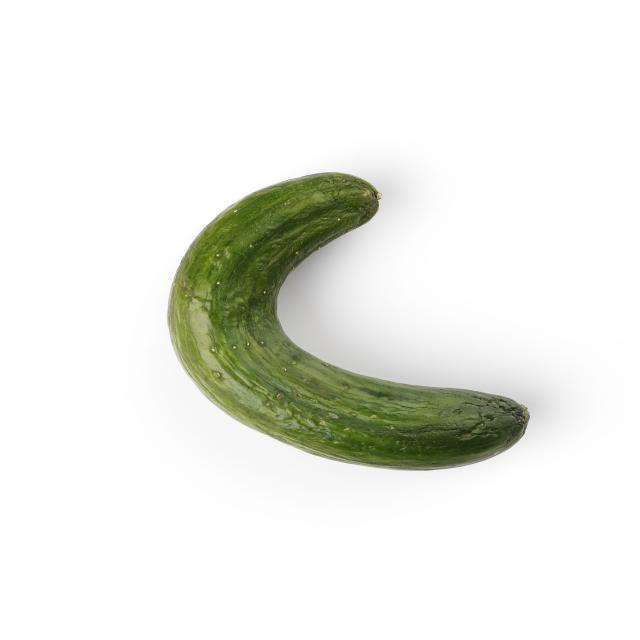cucumber: (157, 170, 537, 476)
